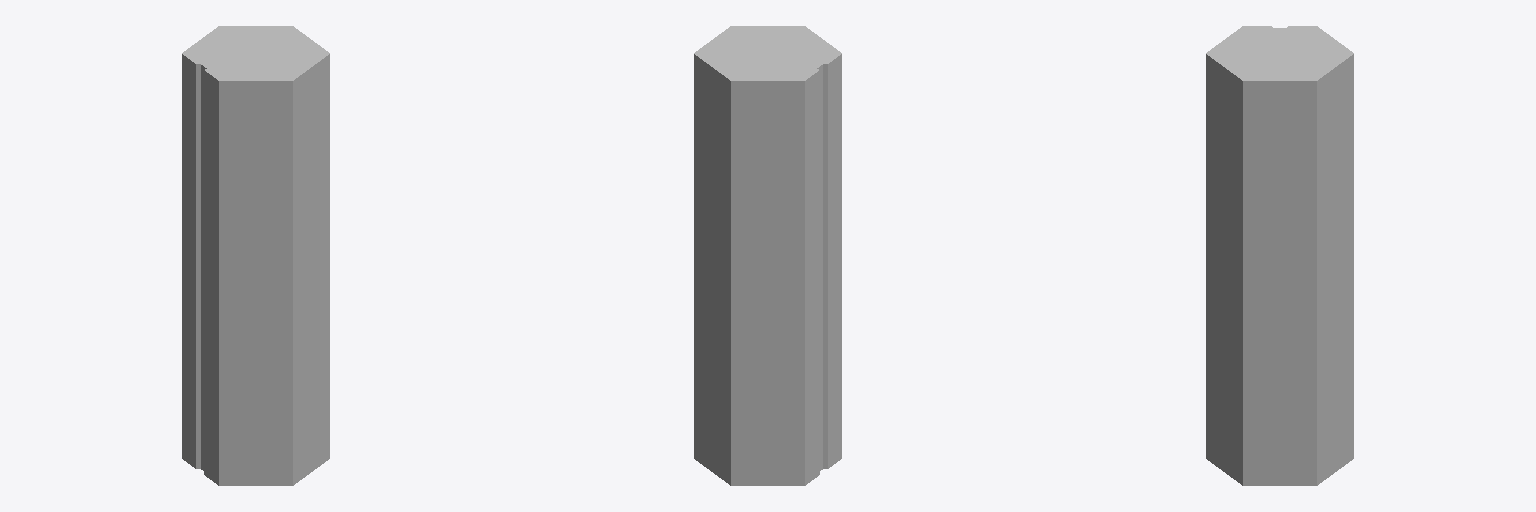
File: platform_collider.obj
3 views of the same model, side by side, from view 1: azimuth 30°, elevation 25°; view 2: azimuth 150°, elevation 25°; view 3: azimuth 270°, elevation 25° (orthographic).
Visible parts, largest first — view 1: Cylinder; view 2: Cylinder; view 3: Cylinder.
Boxes of the visible parts, x1,y1,x2,y2 form: Cylinder: [182, 26, 329, 485]; Cylinder: [694, 26, 841, 485]; Cylinder: [1206, 26, 1353, 485].
Bounding box in the file's own units: 17.32 × 60 × 20.